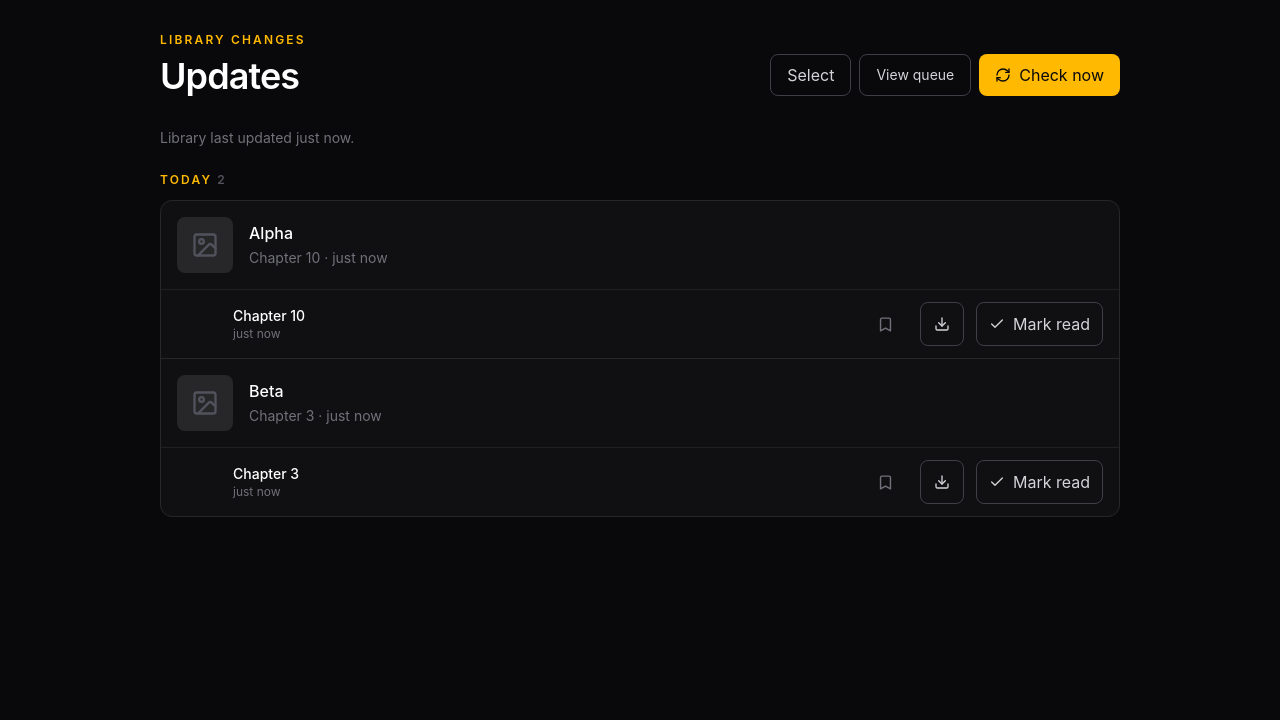
Test: UpdatesPage › acknowledges selected updates in bulk
Expected: the text "Alpha" is shown, left=249, top=223, right=293, bottom=243
Click the button "Select" at x=811, y=75, box left=770, top=54, right=852, bottom=96
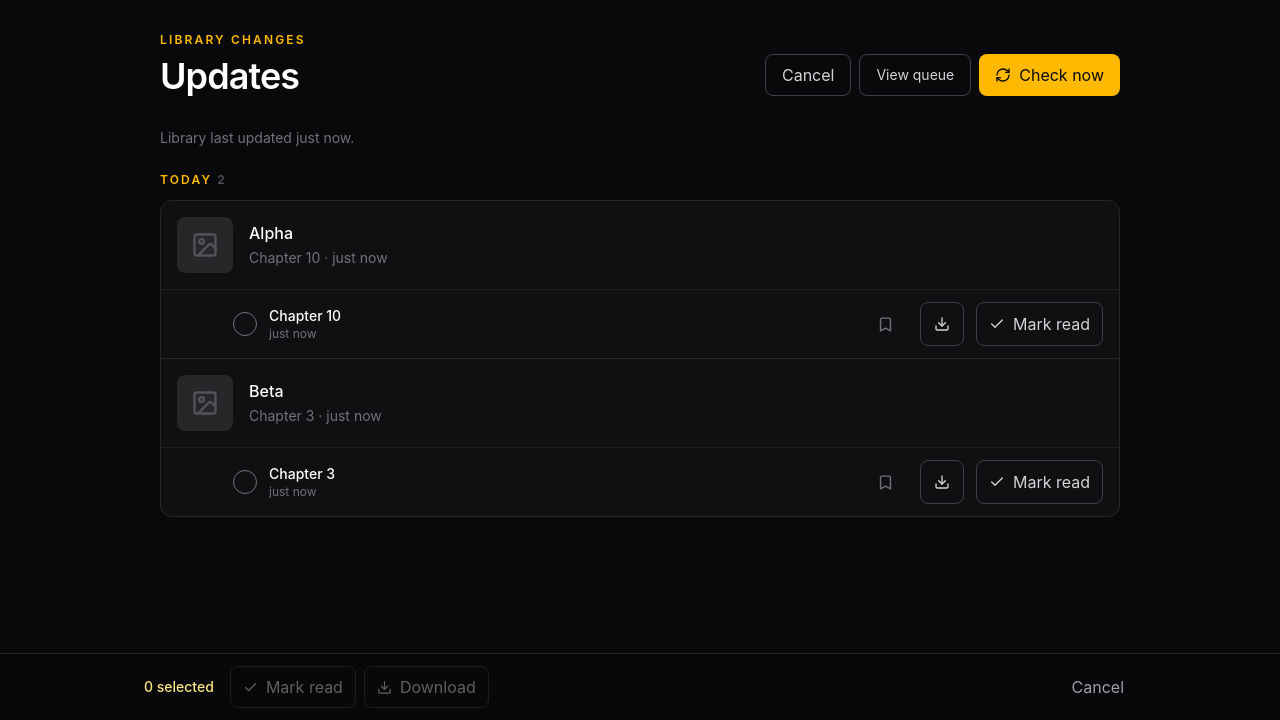
Click the checkbox named "Select Chapter 10" at x=245, y=324, box left=233, top=312, right=257, bottom=336
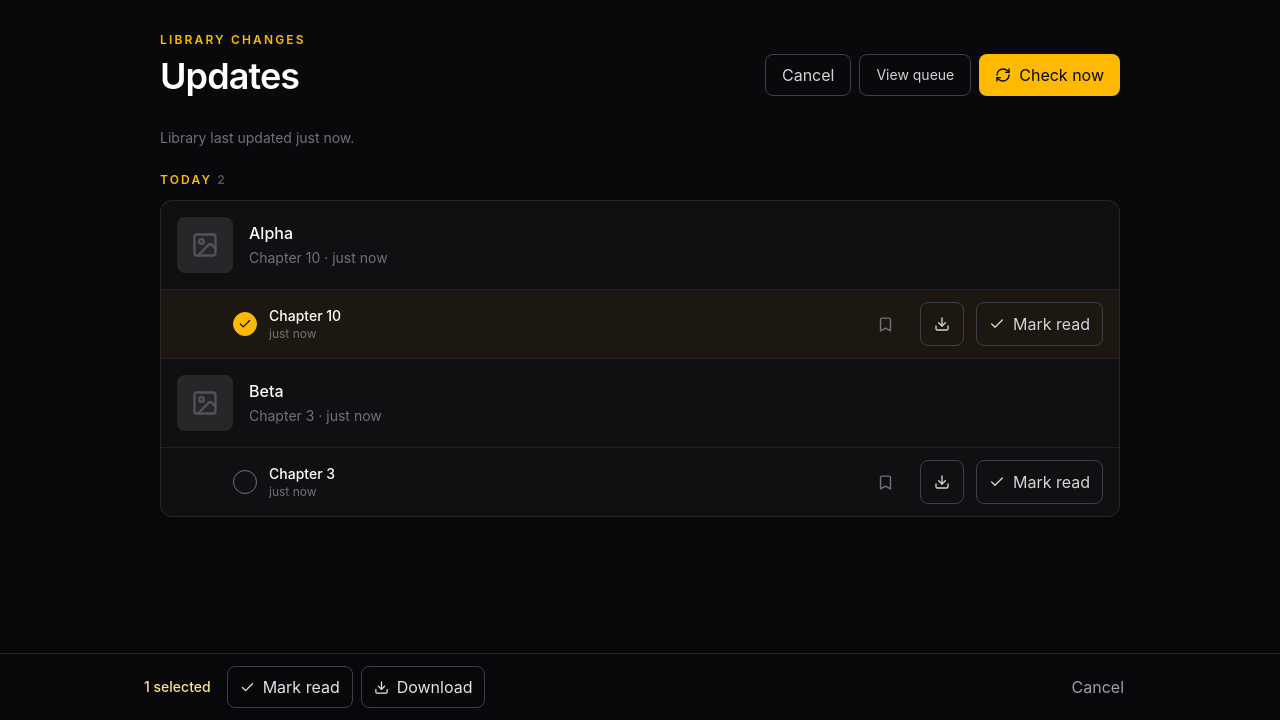
Click the checkbox named "Select Chapter 3" at x=245, y=482, box left=233, top=470, right=257, bottom=494
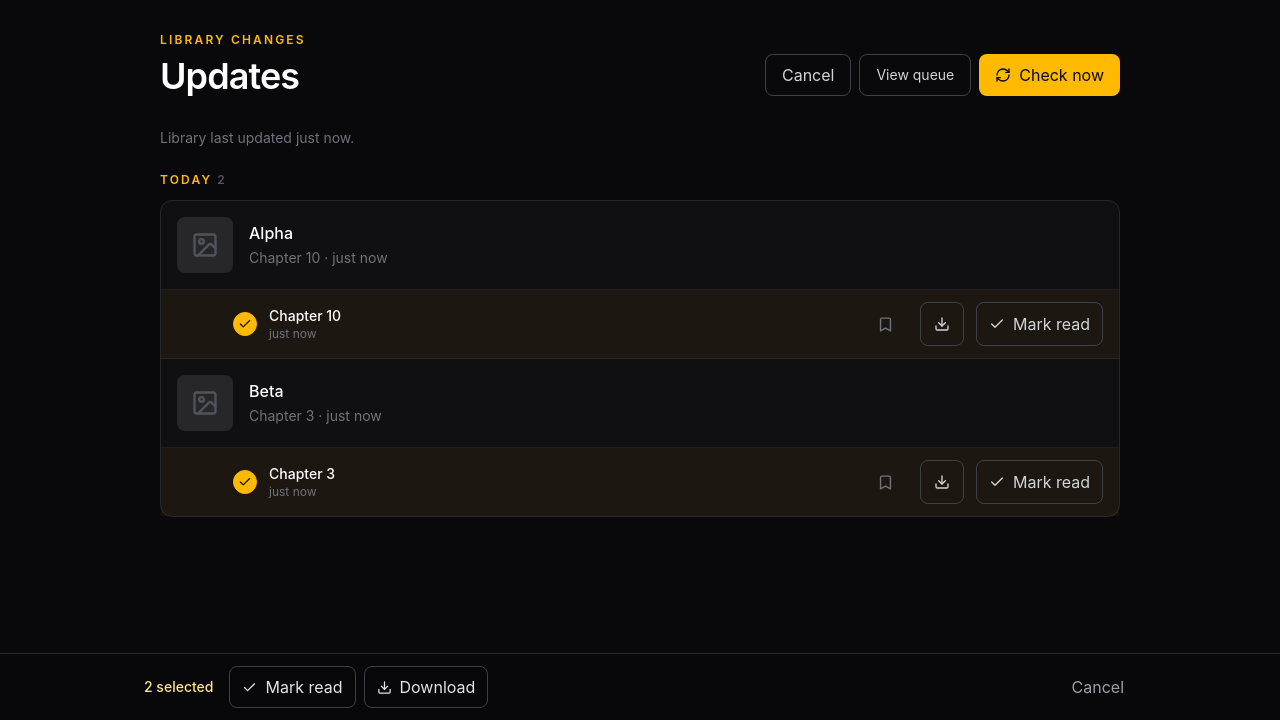
Expected: the text "2 selected" is shown, left=144, top=677, right=214, bottom=697
Click the button "Mark read" next to "selected" at x=292, y=687, box left=230, top=666, right=356, bottom=708
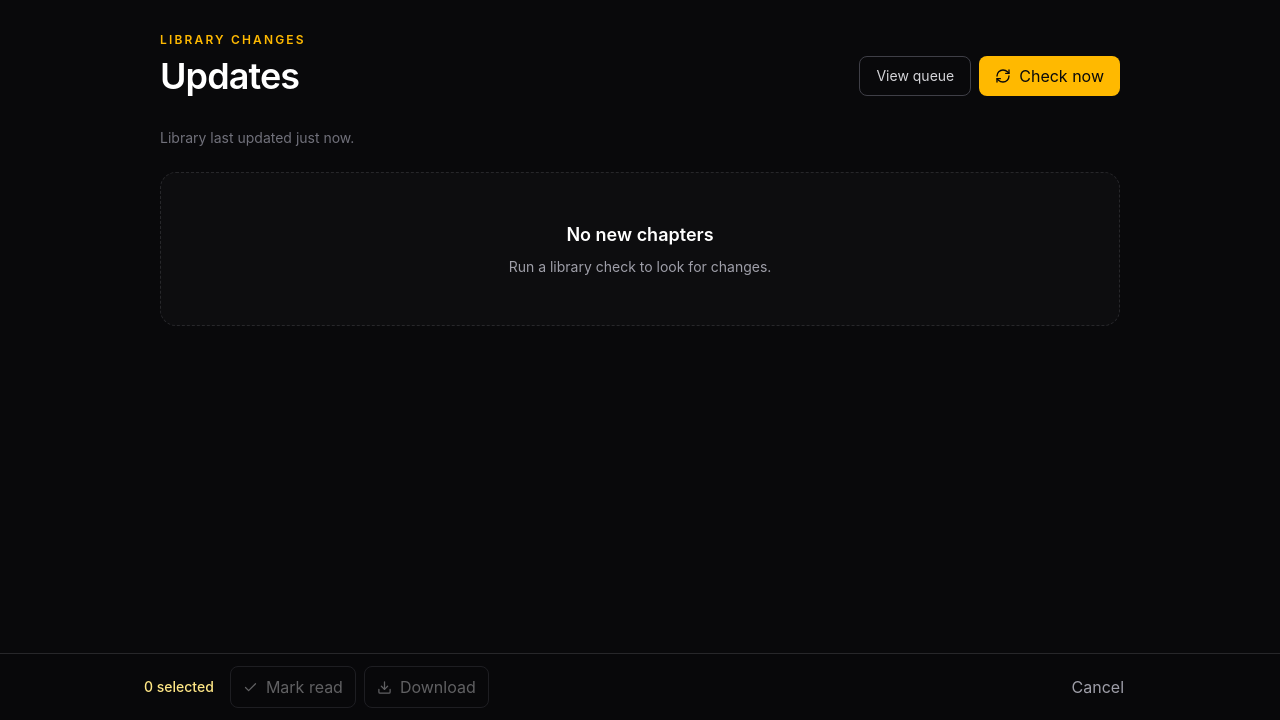
Expected: the heading "No new chapters" is shown, left=566, top=221, right=714, bottom=249
